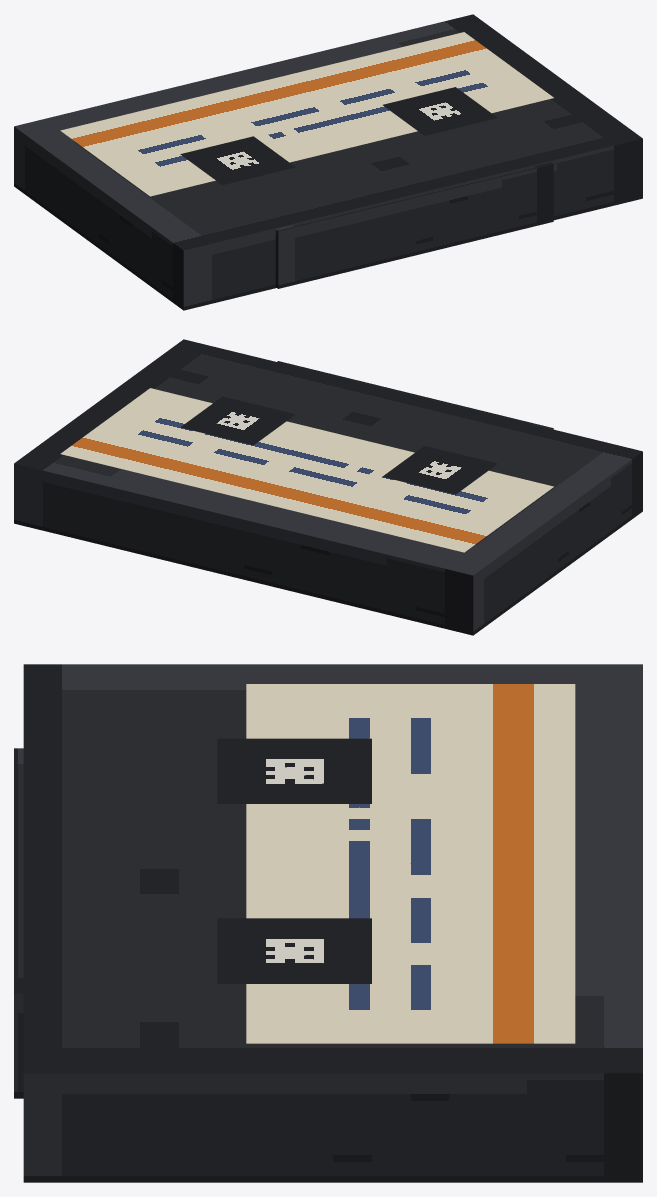
The model's file is INV_CassetteTape.glb.
3 views of the same model, one above another, from view 1: azimuth 30°, elevation 25°; view 2: azimuth 150°, elevation 25°; view 3: azimuth 270°, elevation 25° (orthographic). The views are drawn at different scales.
Visible parts, largest first — view 1: INV_CassetteTape_Mesh; view 2: INV_CassetteTape_Mesh; view 3: INV_CassetteTape_Mesh.
Boxes of the visible parts, bbox=[...] form: INV_CassetteTape_Mesh: bbox=[14, 14, 642, 310]; INV_CassetteTape_Mesh: bbox=[14, 339, 642, 635]; INV_CassetteTape_Mesh: bbox=[14, 664, 642, 1182].
Size of what is drawn, in the model's own units: 0.1 by 0.0133 by 0.065.
Materials: 1 (1 with a texture image).
